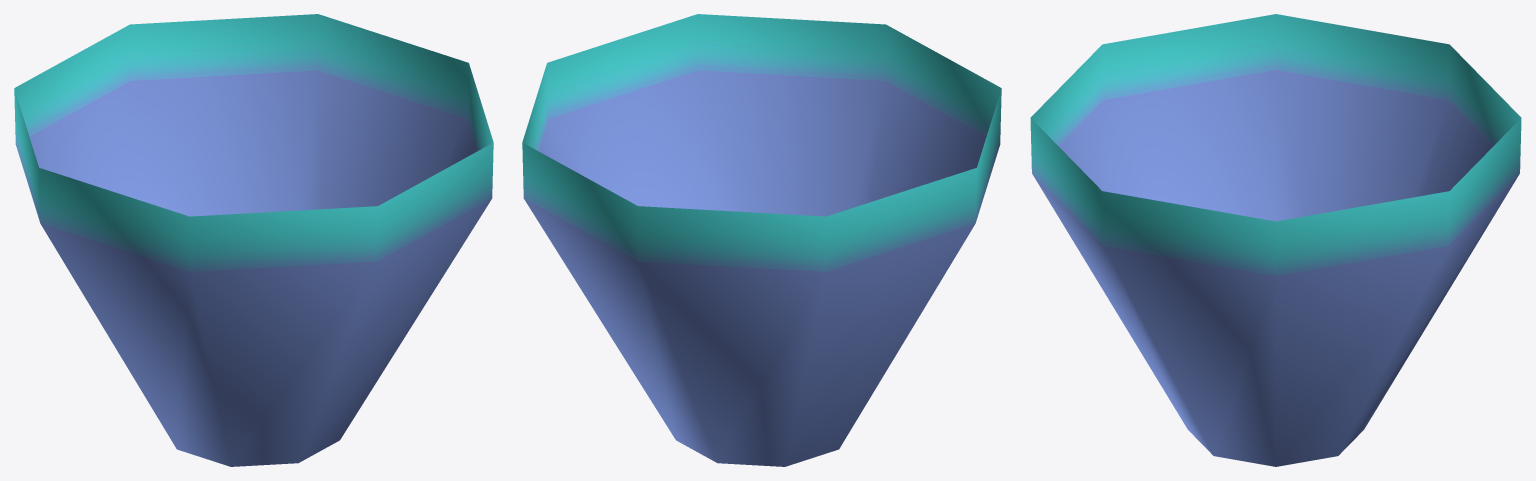
Rendered from horizongrad.DAE.
3 renders of one model, left to right at view 1: azimuth 30°, elevation 25°; view 2: azimuth 150°, elevation 25°; view 3: azimuth 270°, elevation 25°, orthographic.
Visible parts, largest first — view 1: Cylinder01; view 2: Cylinder01; view 3: Cylinder01.
Boxes of the visible parts, x1=… form: Cylinder01: x1=14, y1=14, x2=493, y2=466; Cylinder01: x1=522, y1=14, x2=1001, y2=466; Cylinder01: x1=1030, y1=14, x2=1521, y2=466.
Size of the model in its own units: 9821 by 6885 by 9821.
